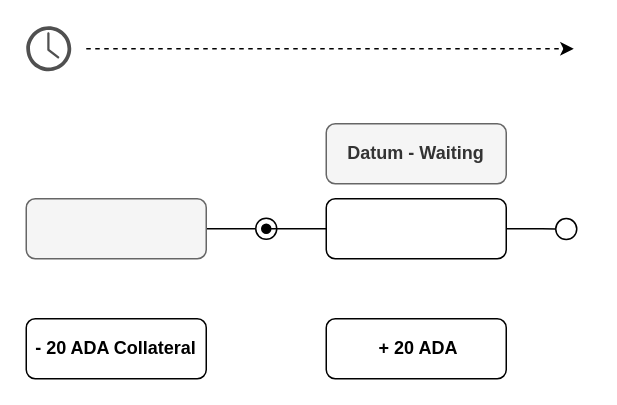
Some shapes in this 617 by 405 pixel diagram are drawn without their labels. Here are the shapes that lost their labels. From the top down, the centre of each, then its label:
pixel 115 228: Seller
pixel 415 228: Plutus V3
